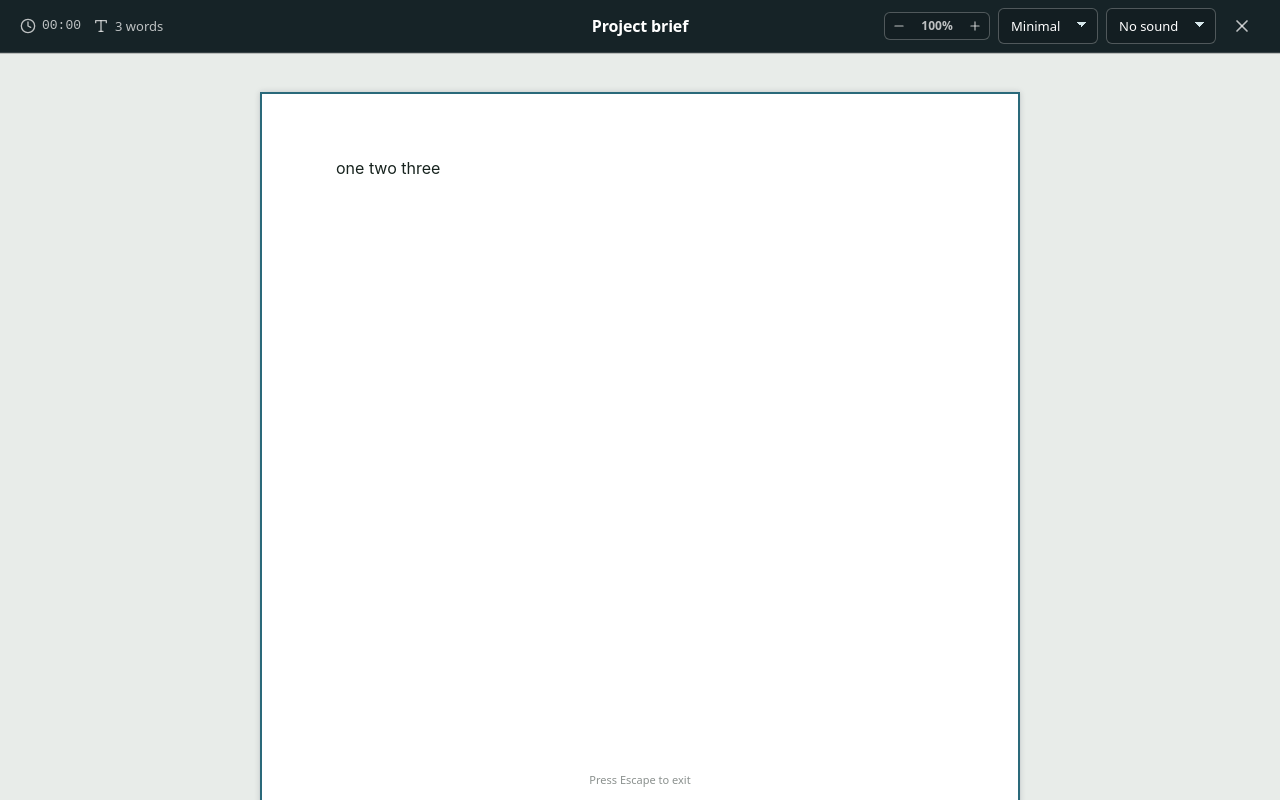
Test: FocusMode › reports ambient-audio failures instead of showing a false playing state
Step 1. Select "Rain" in the 2nd dropdown named "Ambient sound" → (1161, 26), box [1106, 8, 1216, 44]
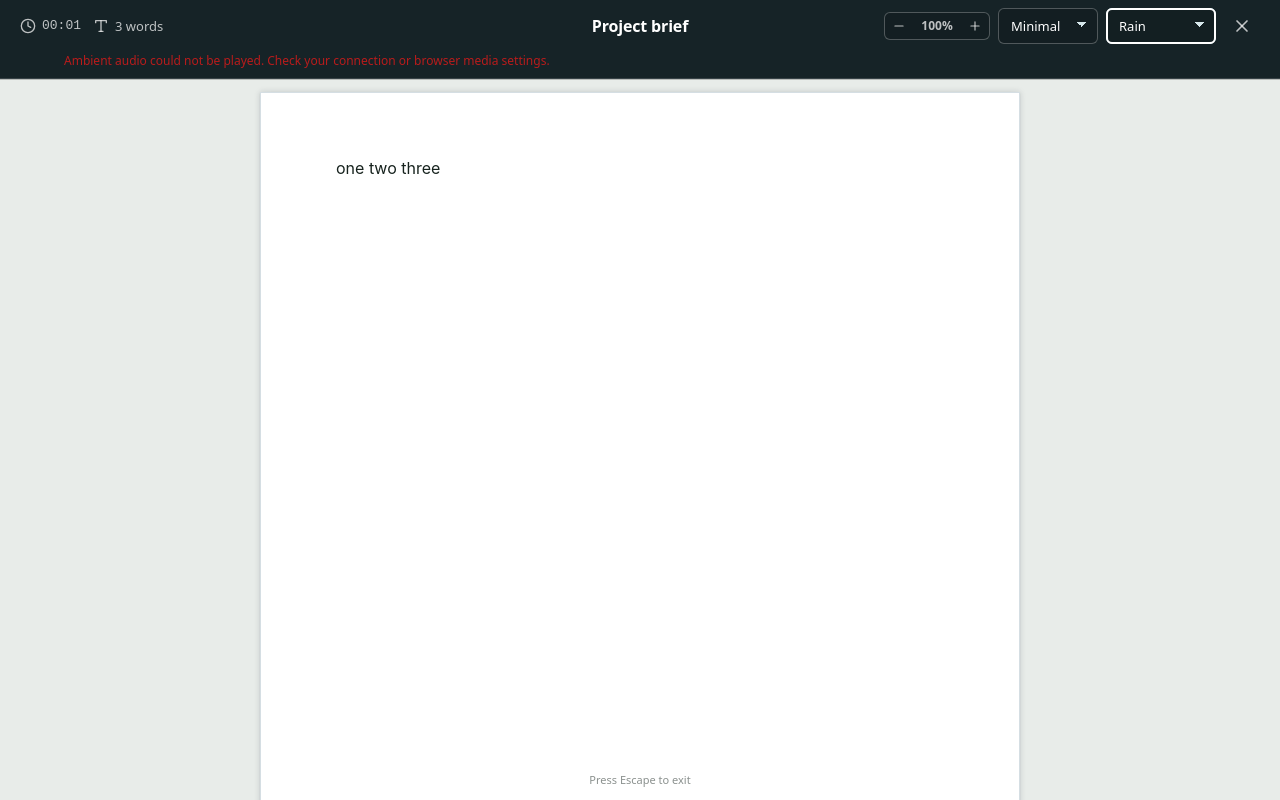
Expected: the message shows "Ambient audio could not be played", [64, 52, 550, 69]
